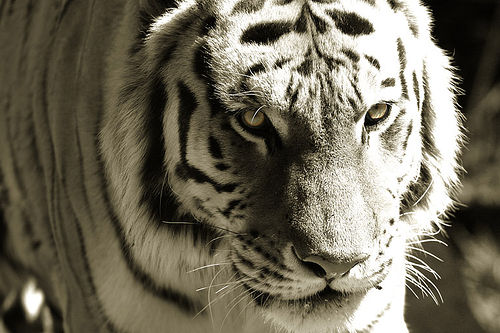Tigre: (140, 7, 464, 308)
